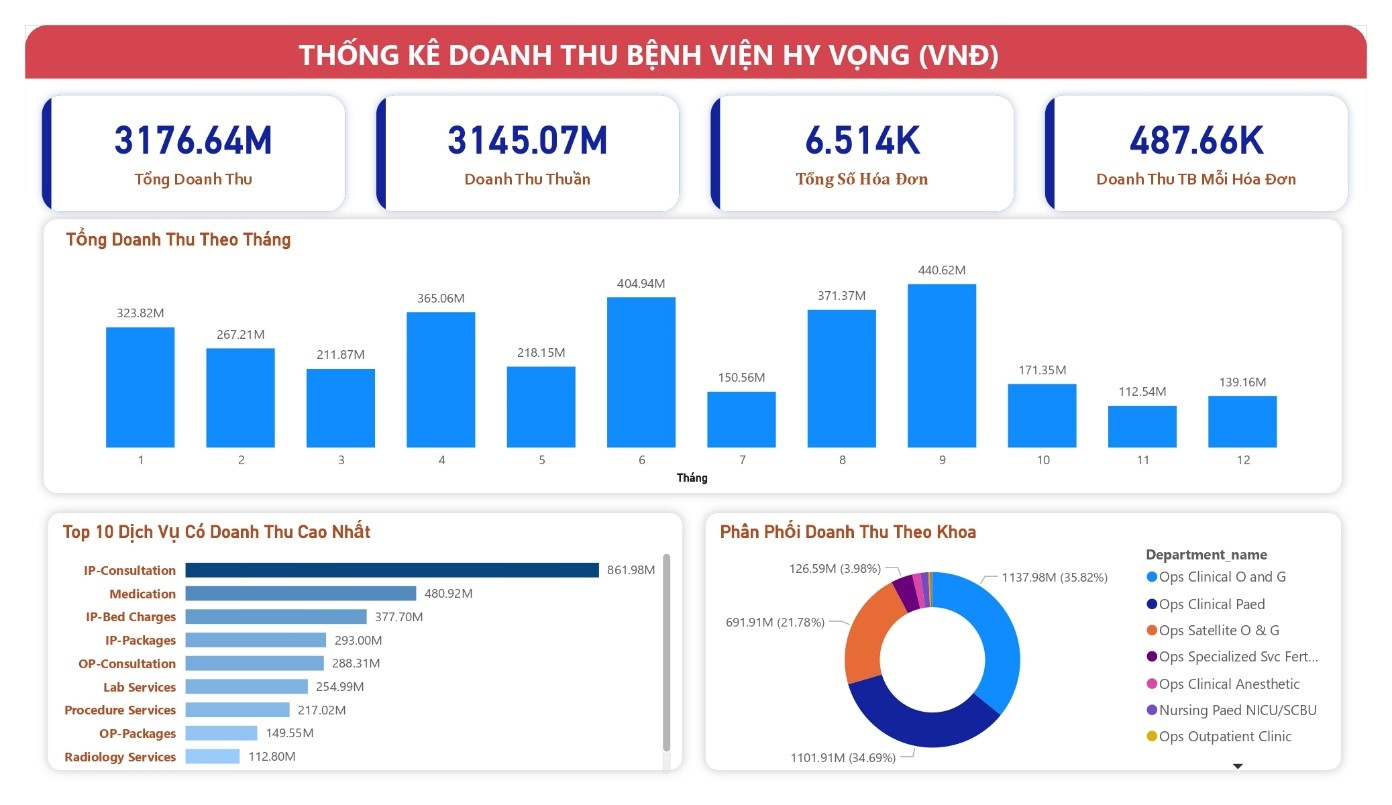

What the dashboard file says about the page in this screenshot:
{"tool":"powerbi","page":{"name":"Sales_Dashboard","canvas":[1280,720],"ordinal":0},"visuals":[{"type":"cardVisual","title":"Summary Sales","fields":{"Data":["Sum(FactBill.Gross_sale)","Sum(FactBill.Net_sale)","CountNonNull(FactBill.Bill_ID)","FactBill.Avg Revenue Per Bill"]},"box":[0,50.9,1280.3,143.7],"z":0},{"type":"shape","box":[0,0,1280.3,50.9],"z":1000},{"type":"textbox","box":[256.1,3.9,744.6,57.5],"z":2000},{"type":"shape","box":[7.8,176.4,1256.7,279.6],"z":3000,"group":"g1"},{"type":"shape","box":[11.8,455.9,624.5,263.9],"z":3500},{"type":"columnChart","title":"Tổng Doanh Thu Theo Tháng","fields":{"Category":["DimTime.Bill_month"],"Y":["Sum(FactBill.Gross_sale)"]},"box":[34,193.9,1204.3,250],"z":4000,"group":"g1"},{"type":"clusteredBarChart","title":"Top 10 Dịch Vụ Có Doanh Thu Cao Nhất","fields":{"Category":["DimItem.Item_type"],"Y":["Sum(FactBill.Gross_sale)"]},"box":[31.4,471.6,589.2,248.2],"z":4000},{"type":"group","id":"g1","title":"Group 1","box":[7.8,176.4,1256.7,279.6],"z":6000},{"type":"shape","box":[640.1,455.9,624.5,263.9],"z":7001},{"type":"donutChart","title":"Phân Phối Doanh Thu Theo Khoa","fields":{"Category":["DimDepartment.Department_name"],"Y":["Sum(FactBill.Gross_sale)"]},"box":[658.4,471.6,589.2,248.2],"z":7501}]}

Visuals, with their boxes in screenshot pixels (x1, y1, x2, y2), scaled from the page's 1280x720 canvas onto the 1392x805 screenshot:
"Summary Sales" cardVisual: 0, 57, 1391, 218
shape: 0, 0, 1391, 57
textbox: 279, 4, 1088, 69
shape: 8, 197, 1375, 510
shape: 13, 510, 692, 804
"Tổng Doanh Thu Theo Tháng" columnChart: 37, 217, 1347, 496
"Top 10 Dịch Vụ Có Doanh Thu Cao Nhất" clusteredBarChart: 34, 527, 675, 804
"Group 1" group: 8, 197, 1375, 510
shape: 696, 510, 1375, 804
"Phân Phối Doanh Thu Theo Khoa" donutChart: 716, 527, 1357, 804
